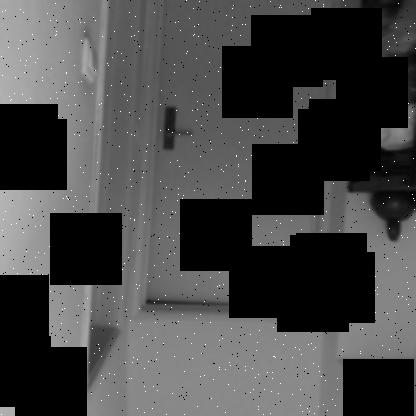Porte: (127, 0, 343, 326)
